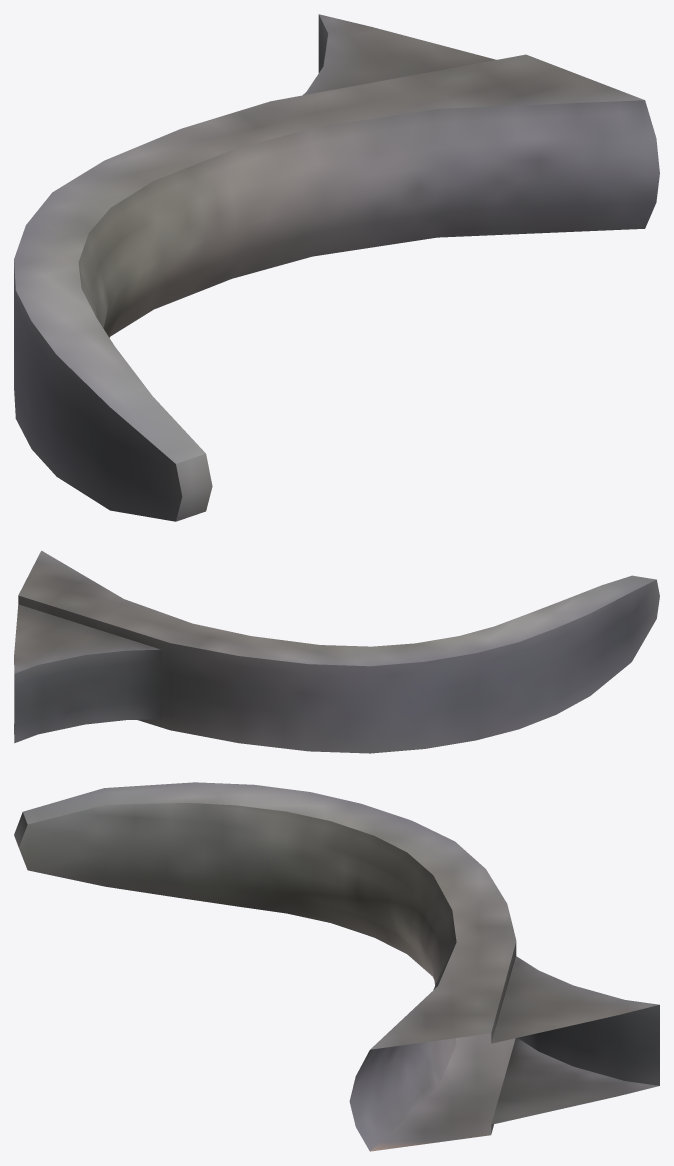
The model's file is SM_McKennan_01d.fbx.
3 views of the same model, one above another, from view 1: azimuth 30°, elevation 25°; view 2: azimuth 150°, elevation 25°; view 3: azimuth 270°, elevation 25° (orthographic). The views are drawn at different scales.
Parts seen in each view (by area): view 1: SM_McKennan_01d_LOD0; view 2: SM_McKennan_01d_LOD0; view 3: SM_McKennan_01d_LOD0.
Part boxes in pixels (x1=…): SM_McKennan_01d_LOD0: x1=14, y1=14, x2=659, y2=521; SM_McKennan_01d_LOD0: x1=14, y1=550, x2=659, y2=753; SM_McKennan_01d_LOD0: x1=14, y1=782, x2=659, y2=1151.
Bounding box in the file's own units: 2.63 × 2.64 × 0.4586.
